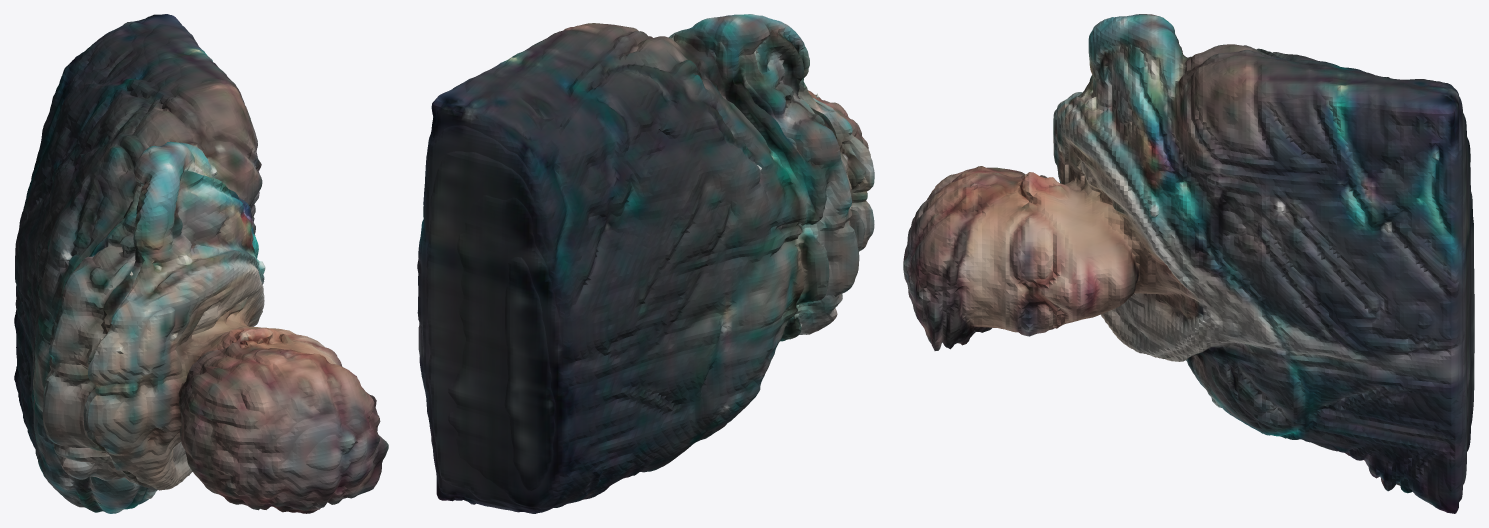
3 renders of one model, left to right at view 1: azimuth 30°, elevation 25°; view 2: azimuth 150°, elevation 25°; view 3: azimuth 270°, elevation 25°, orthographic. The views are drawn at different scales.
Parts seen in each view (by area): view 1: world; view 2: world; view 3: world.
Boxes of the visible parts, x1,y1,x2,y2 form: world: (14, 14, 388, 513); world: (417, 14, 874, 513); world: (903, 14, 1474, 513).
Size of the model in its own units: 0.5965 by 0.8132 by 0.9889.
